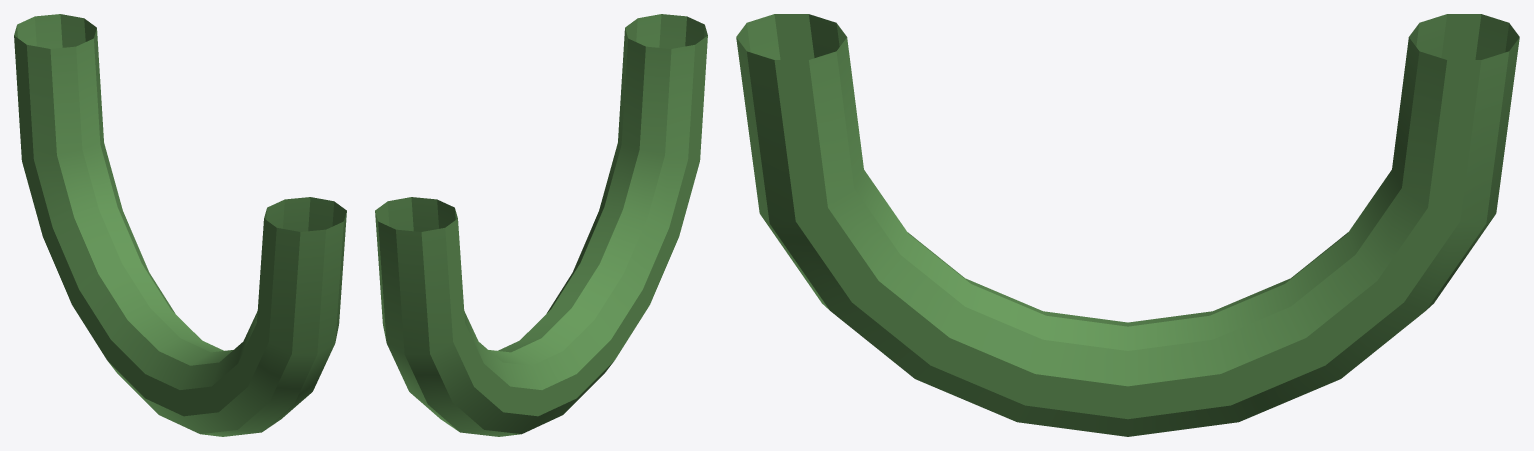
The model's file is GrapplePoint.fbx.
3 views of the same model, side by side, from view 1: azimuth 30°, elevation 25°; view 2: azimuth 150°, elevation 25°; view 3: azimuth 270°, elevation 25° (orthographic). The views are drawn at different scales.
Parts seen in each view (by area): view 1: GrapplePoint1; view 2: GrapplePoint1; view 3: GrapplePoint1.
Part boxes in pixels (x1,y1,x2,y2): GrapplePoint1: (14, 14, 346, 436); GrapplePoint1: (375, 14, 707, 436); GrapplePoint1: (736, 14, 1519, 436).
Bounding box in the file's own units: 0.1796 × 0.7193 × 1.29.
